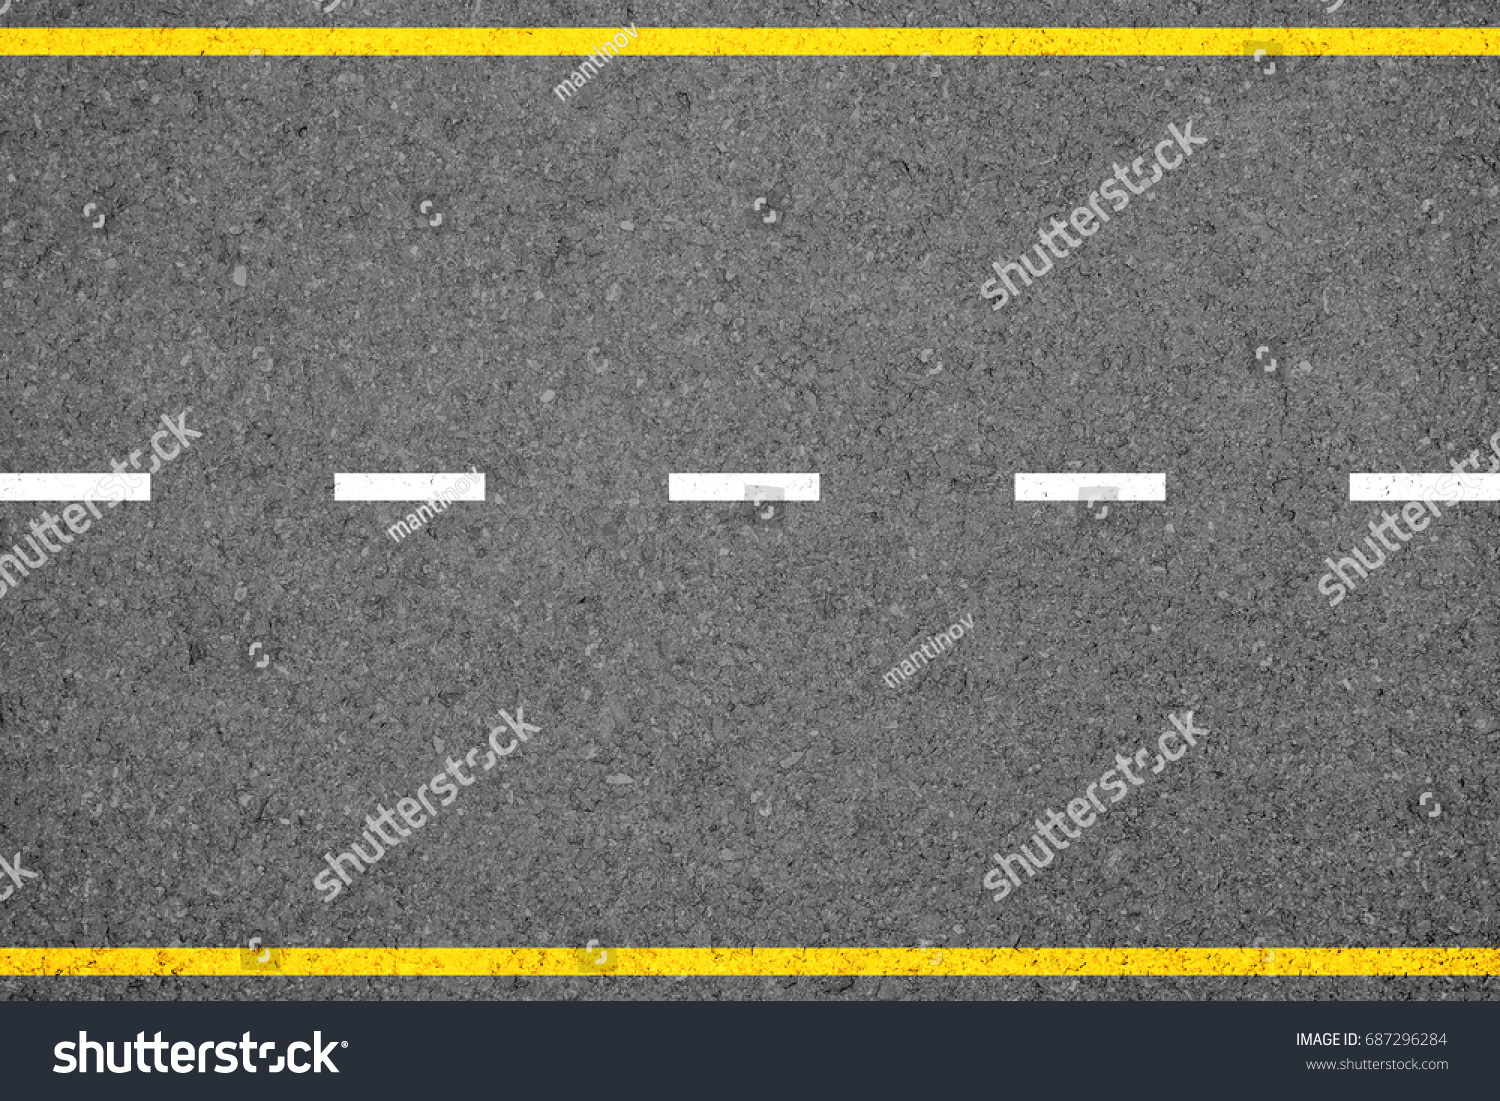LaneMark: (338, 468, 490, 508), (1011, 468, 1169, 506), (667, 470, 820, 508), (1, 468, 157, 504), (1344, 470, 1500, 504)
